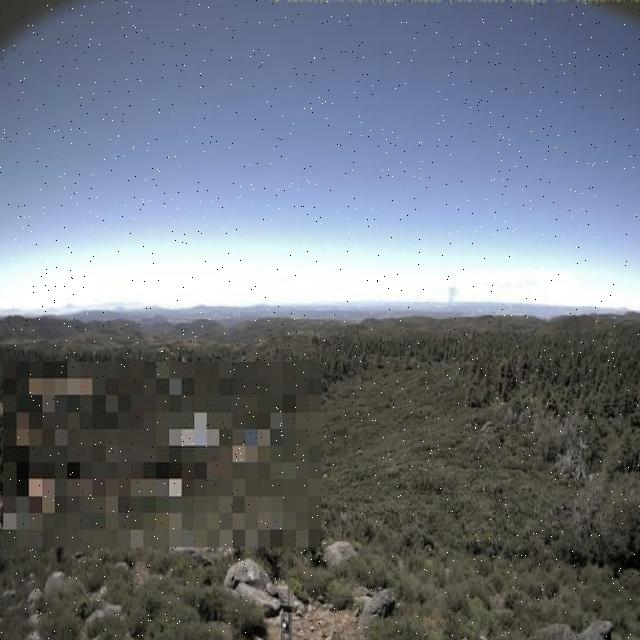smoke: (442, 282, 462, 314)
